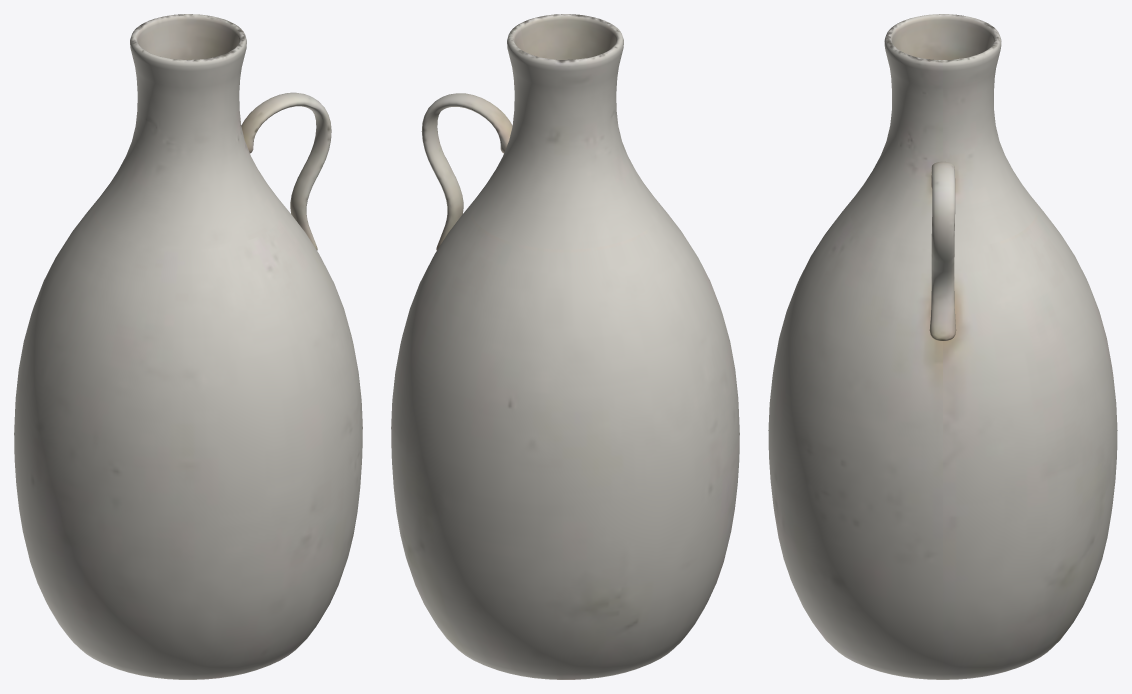
File: ceramic_vase_04.8d07e510.glb
3 views of the same model, side by side, from view 1: azimuth 30°, elevation 25°; view 2: azimuth 150°, elevation 25°; view 3: azimuth 270°, elevation 25° (orthographic).
Visible parts, largest first — view 1: ceramic_vase_04; view 2: ceramic_vase_04; view 3: ceramic_vase_04.
Part boxes in pixels (bbox=[...]): ceramic_vase_04: bbox=[14, 14, 362, 679]; ceramic_vase_04: bbox=[391, 14, 739, 679]; ceramic_vase_04: bbox=[768, 14, 1117, 679].
Bounding box in the file's own units: 0.5297 × 1 × 0.5297.
Materials: 1 (1 with a texture image).
